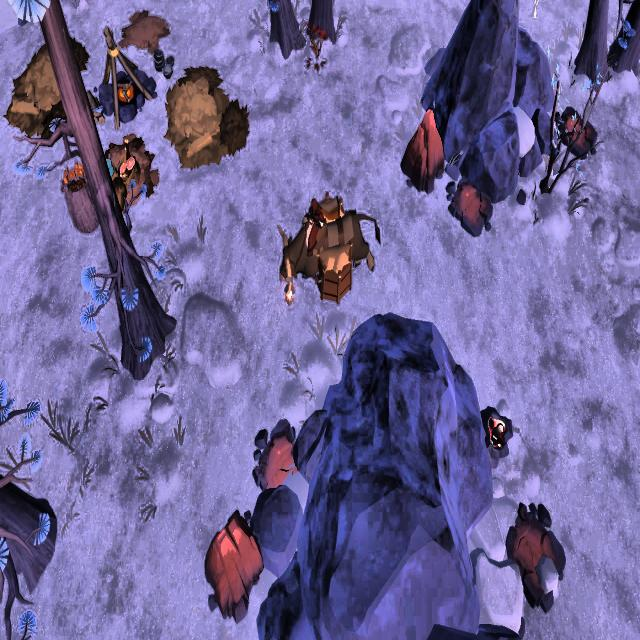rock_t5: (200, 512, 262, 624), (400, 108, 446, 199)
